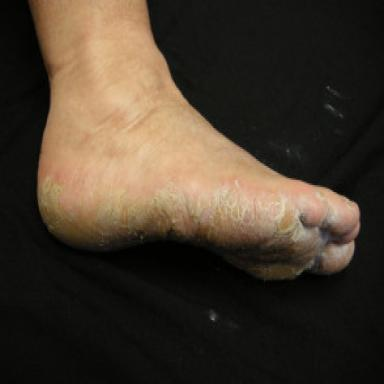eczema: (37, 176, 360, 282)
